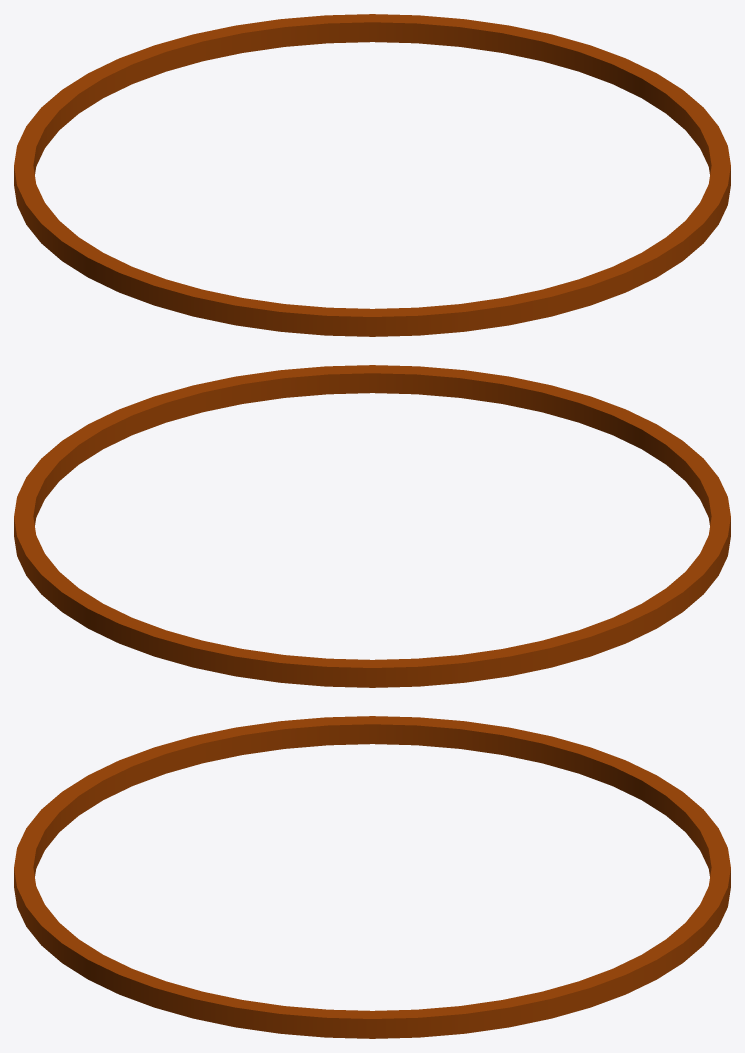
The model's file is CircleBig.FBX.
The picture shows the model from 3 angles, top to bottom: view 1: azimuth 30°, elevation 25°; view 2: azimuth 150°, elevation 25°; view 3: azimuth 270°, elevation 25°; orthographic projection.
Parts seen in each view (by area): view 1: Tube007; view 2: Tube007; view 3: Tube007.
Part boxes in pixels (x1=…): Tube007: x1=14, y1=14, x2=730, y2=336; Tube007: x1=14, y1=365, x2=730, y2=687; Tube007: x1=14, y1=716, x2=730, y2=1038.
Size of the model in its own units: 148 by 4.52 by 148.
